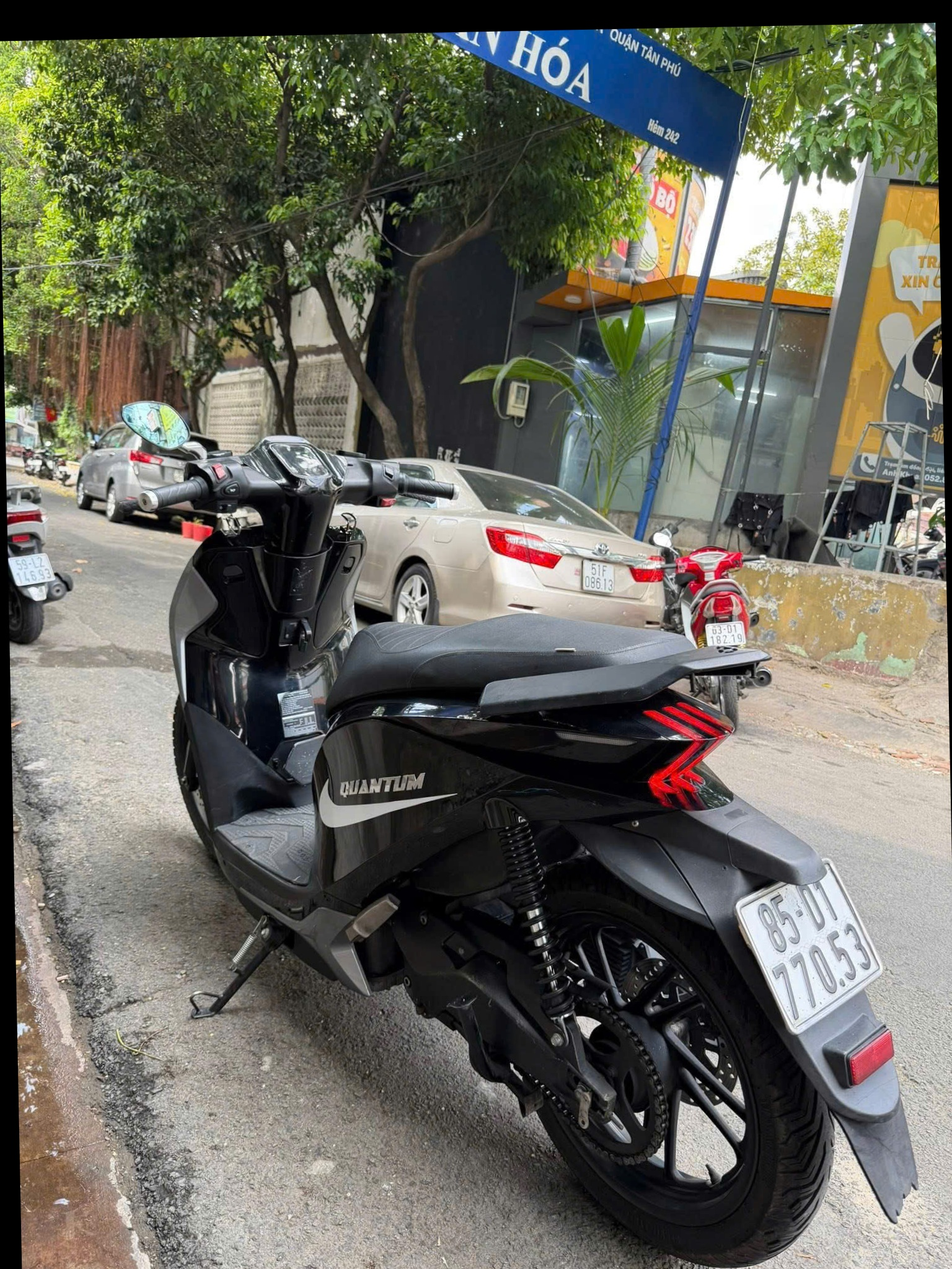Bien-so: (727, 866, 901, 1050), (0, 486, 55, 535), (728, 623, 775, 652), (605, 548, 637, 584)
